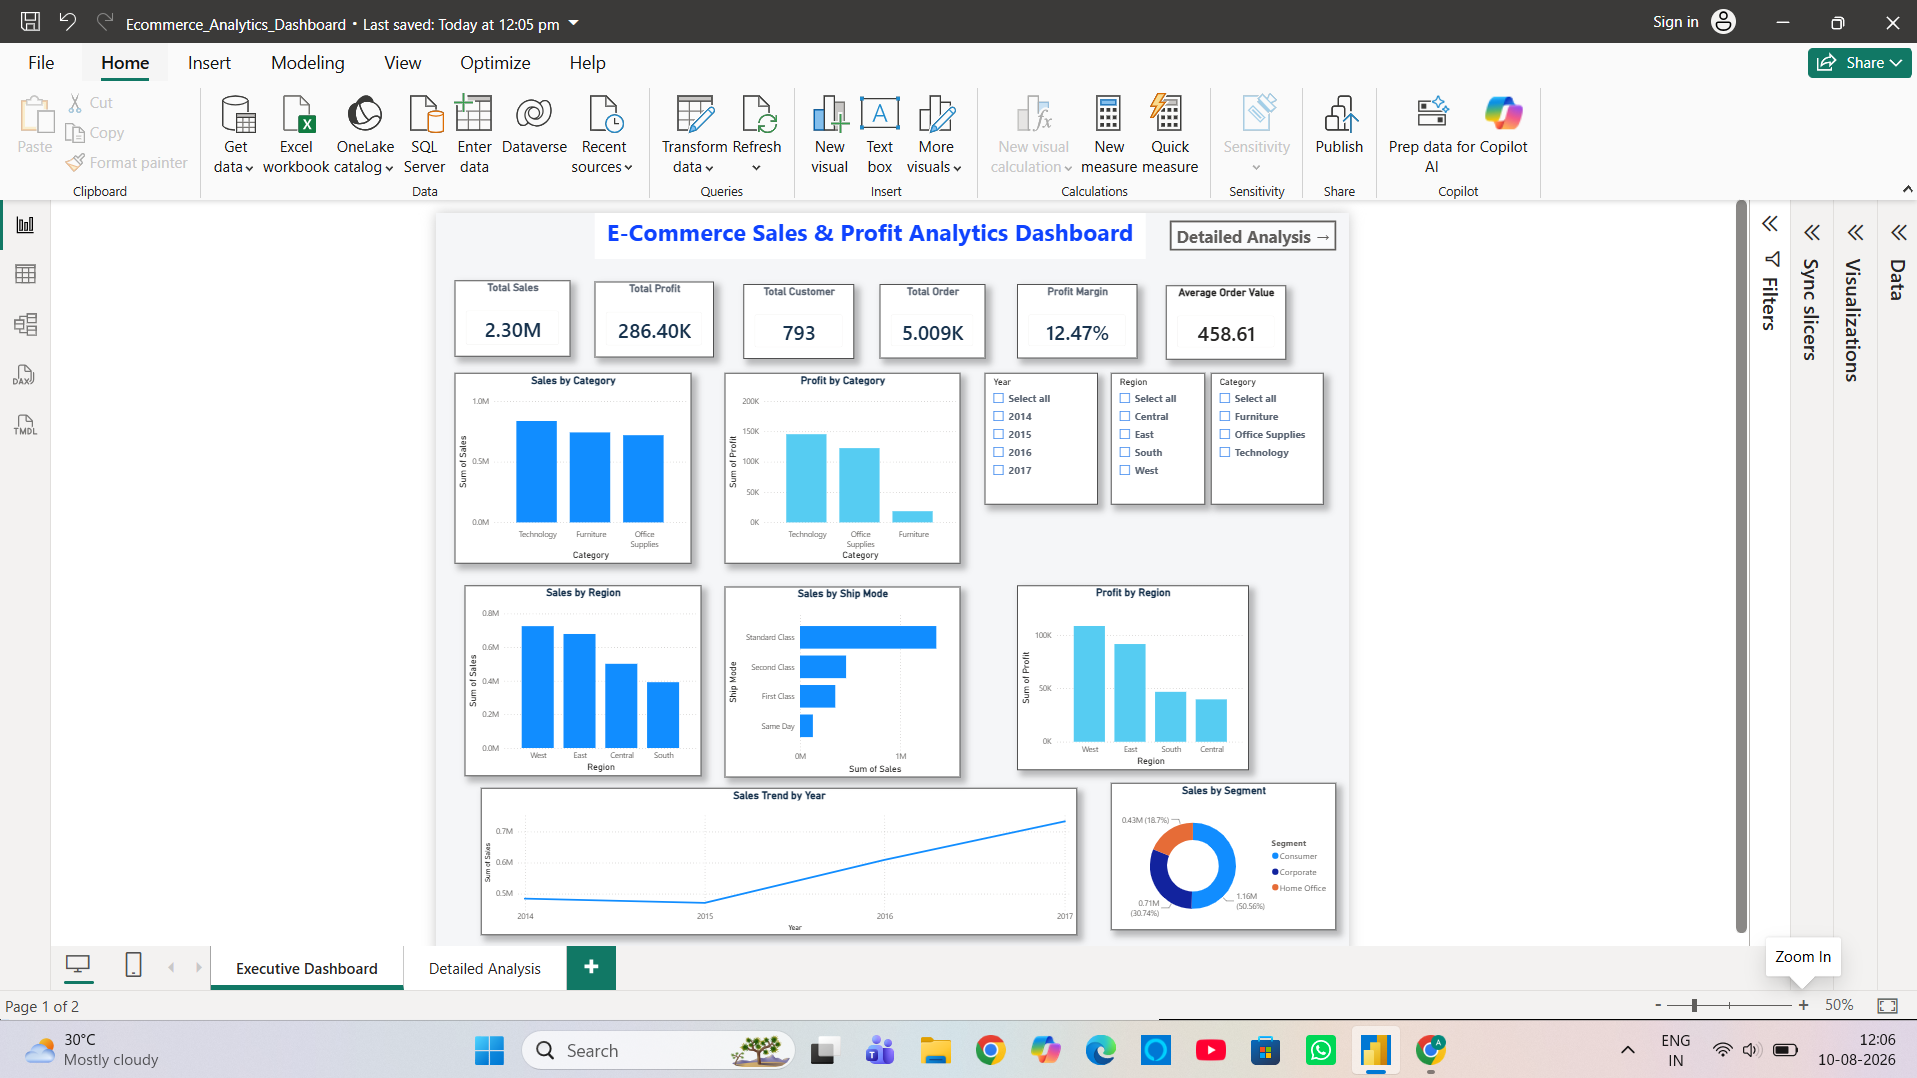

This screenshot's page, from the dashboard's own definition file:
{"tool":"powerbi","page":{"name":"Executive Dashboard","canvas":[1460,1194],"ordinal":0},"visuals":[{"type":"cardVisual","title":"Total Profit","fields":{"Data":["Sum(Superstore.Profit)"]},"box":[253.3,110,190.7,120.8],"z":0},{"type":"cardVisual","title":"Total Customer","fields":{"Data":["Count(Superstore.Customer ID)"]},"box":[491.7,113.3,177,119.4],"z":1000},{"type":"cardVisual","title":"Total Order","fields":{"Data":["Count(Superstore.Order ID)"]},"box":[710,113.3,168.8,118],"z":2000},{"type":"cardVisual","title":"Profit Margin","fields":{"Data":["Superstore.Profit Margin"]},"box":[930,113.3,192.1,118],"z":3000},{"type":"cardVisual","title":"Average Order Value","fields":{"Data":["Superstore.Average Order Value"]},"box":[1168.3,115,192.1,118],"z":4000},{"type":"cardVisual","title":"Total Sales","fields":{"Data":["Sum(Superstore.Sales)"]},"box":[30,108.3,185,121.7],"z":5000},{"type":"clusteredColumnChart","title":"Sales by Category","fields":{"Category":["Superstore.Category"],"Y":["Sum(Superstore.Sales)"]},"box":[30,256.7,378.3,305],"z":6000},{"type":"clusteredColumnChart","title":"Profit by Category","fields":{"Category":["Superstore.Category"],"Y":["Sum(Superstore.Profit)"]},"box":[461.7,256.7,376.7,305],"z":7000},{"type":"clusteredColumnChart","title":"Sales by Region","fields":{"Y":["Sum(Superstore.Sales)"],"Category":["Superstore.Region"]},"box":[45,596.7,378.3,305],"z":8000},{"type":"clusteredColumnChart","title":"Profit by Region","fields":{"Y":["Sum(Superstore.Profit)"],"Category":["Superstore.Region"]},"box":[930,596,370,295],"z":9000},{"type":"lineChart","title":"Sales Trend by Year","fields":{"Category":["Superstore.Order Date.Variation.Date Hierarchy.Year","Superstore.Order Date.Variation.Date Hierarchy.Quarter","Superstore.Order Date.Variation.Date Hierarchy.Month","Superstore.Order Date.Variation.Date Hierarchy.Day"],"Y":["Sum(Superstore.Sales)"]},"box":[72,919,953.3,235],"z":10000},{"type":"donutChart","title":"Sales by Segment","fields":{"Category":["Superstore.Segment"],"Y":["Sum(Superstore.Sales)"]},"box":[1080,912,360,235],"z":11000},{"type":"clusteredBarChart","title":"Sales by Ship Mode","fields":{"Category":["Superstore.Ship Mode"],"Y":["Sum(Superstore.Sales)"]},"box":[461.7,598.3,376.7,305],"z":12000},{"type":"slicer","title":"Year","fields":{"Values":["Superstore.Order Date.Variation.Date Hierarchy.Year"]},"box":[878.9,256.7,181.1,210],"z":13000},{"type":"slicer","fields":{"Values":["Superstore.Region"]},"box":[1080,256.7,150,210],"z":14000},{"type":"slicer","fields":{"Values":["Superstore.Category"]},"box":[1240,256.7,180,210],"z":15000},{"type":"textbox","box":[253.3,0,881.7,73.3],"z":16000},{"type":"actionButton","title":"Detailed Analysis →","box":[1173.3,11.7,266.7,48.3],"z":17000}]}

Visuals, with their boxes on the page's 1460x1194 design canvas (x1, y1, x2, y2). These are canvas units, not pixel positions in the 1917x1078 screenshot, which may show the page scaled, cropped or inside an application window:
"Total Profit" cardVisual: detection(253, 110, 444, 231)
"Total Customer" cardVisual: detection(492, 113, 669, 233)
"Total Order" cardVisual: detection(710, 113, 879, 231)
"Profit Margin" cardVisual: detection(930, 113, 1122, 231)
"Average Order Value" cardVisual: detection(1168, 115, 1360, 233)
"Total Sales" cardVisual: detection(30, 108, 215, 230)
"Sales by Category" clusteredColumnChart: detection(30, 257, 408, 562)
"Profit by Category" clusteredColumnChart: detection(462, 257, 838, 562)
"Sales by Region" clusteredColumnChart: detection(45, 597, 423, 902)
"Profit by Region" clusteredColumnChart: detection(930, 596, 1300, 891)
"Sales Trend by Year" lineChart: detection(72, 919, 1025, 1154)
"Sales by Segment" donutChart: detection(1080, 912, 1440, 1147)
"Sales by Ship Mode" clusteredBarChart: detection(462, 598, 838, 903)
"Year" slicer: detection(879, 257, 1060, 467)
slicer - Superstore.Region: detection(1080, 257, 1230, 467)
slicer - Superstore.Category: detection(1240, 257, 1420, 467)
textbox: detection(253, 0, 1135, 73)
"Detailed Analysis →" actionButton: detection(1173, 12, 1440, 60)
